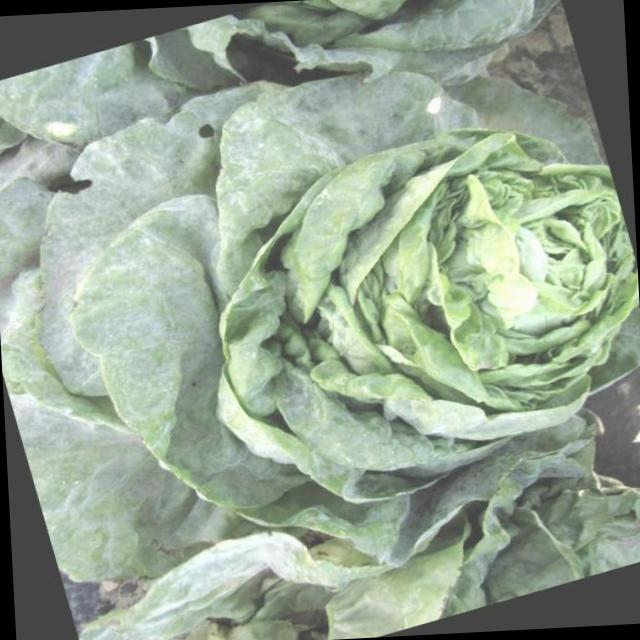Powdery_mildew_on_lettuce: (29, 19, 636, 572)
